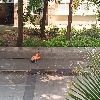fire: (32, 52, 40, 59)
